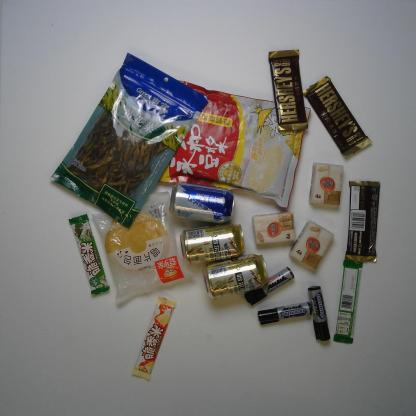Alcohol: (162, 171, 237, 229), (171, 222, 255, 273), (198, 256, 269, 304)
Chocolate: (254, 36, 324, 138), (126, 287, 186, 386), (304, 72, 371, 160), (62, 208, 115, 304), (342, 168, 388, 269), (333, 254, 368, 348)
Dessert: (76, 187, 187, 311)
Dried Food: (22, 51, 216, 237)
Instant Drink: (158, 69, 315, 208)
Stationery: (240, 262, 298, 308), (240, 297, 312, 330), (300, 275, 334, 342)
Tissue: (283, 212, 338, 270), (301, 149, 351, 212), (242, 201, 297, 257)
